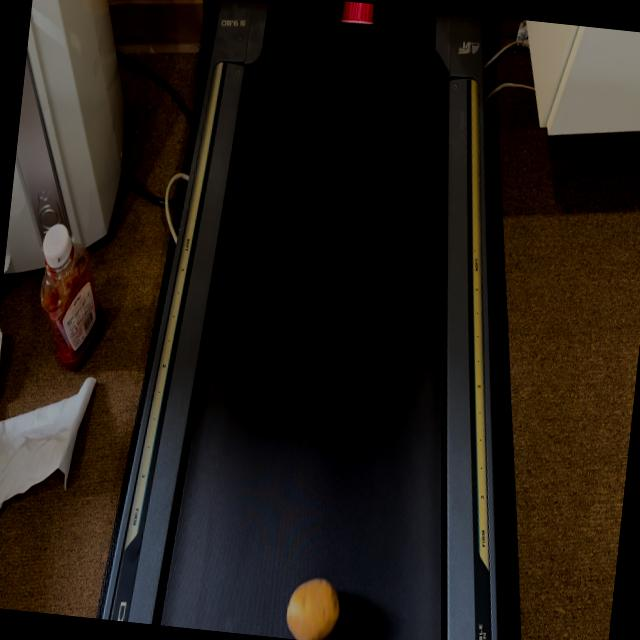Trash: (271, 563, 379, 640)
